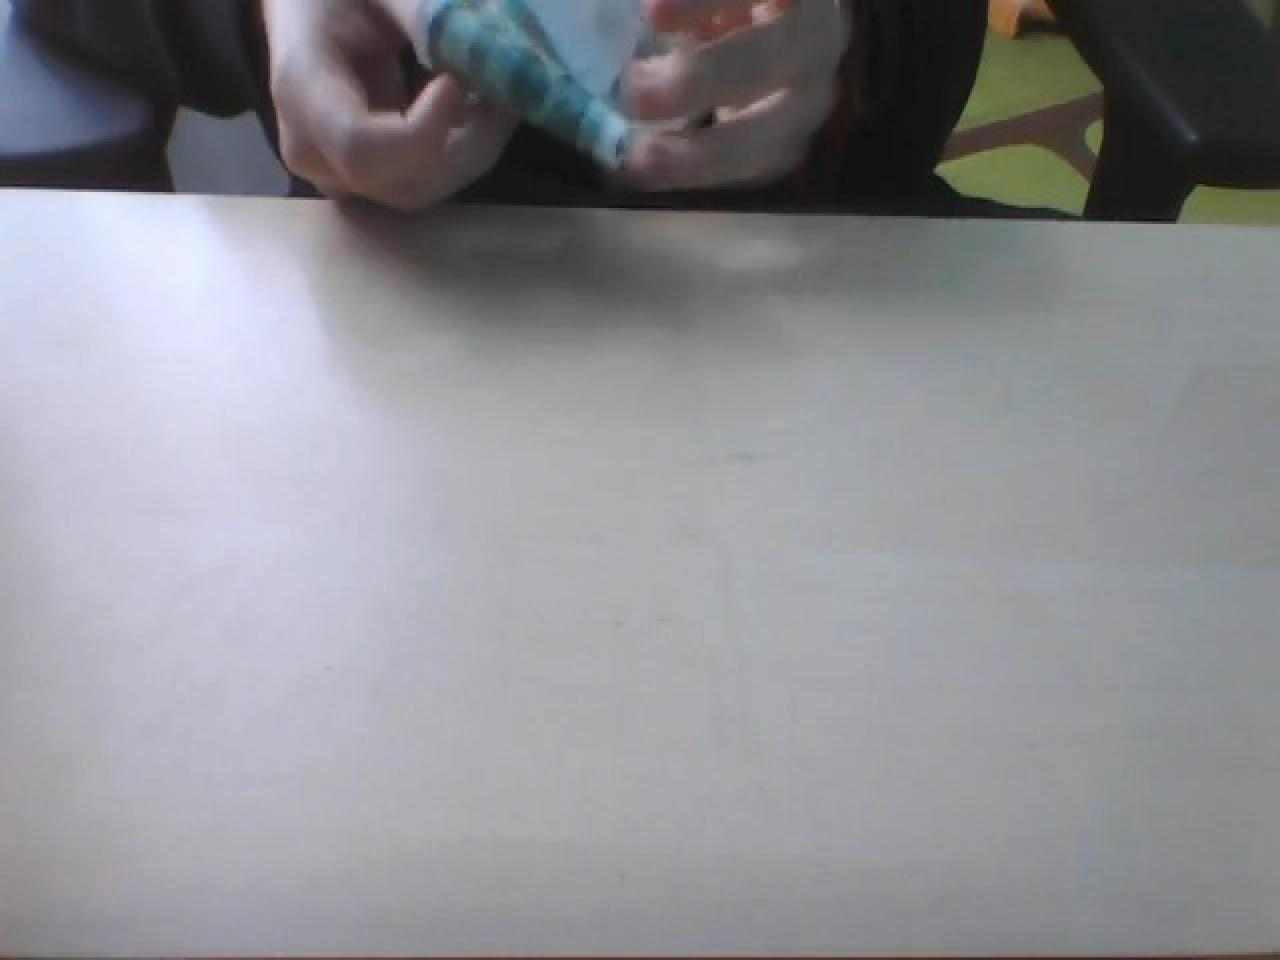100leva: (408, 0, 646, 173)
